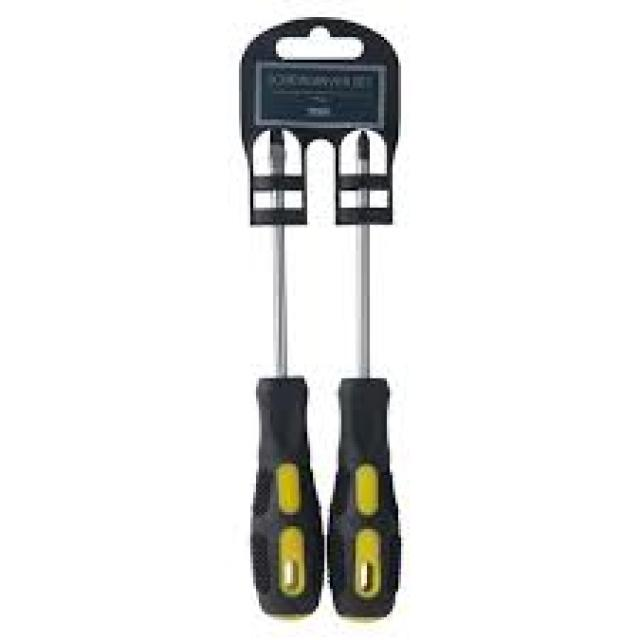screw driver: (319, 115, 437, 611), (233, 108, 334, 620)
